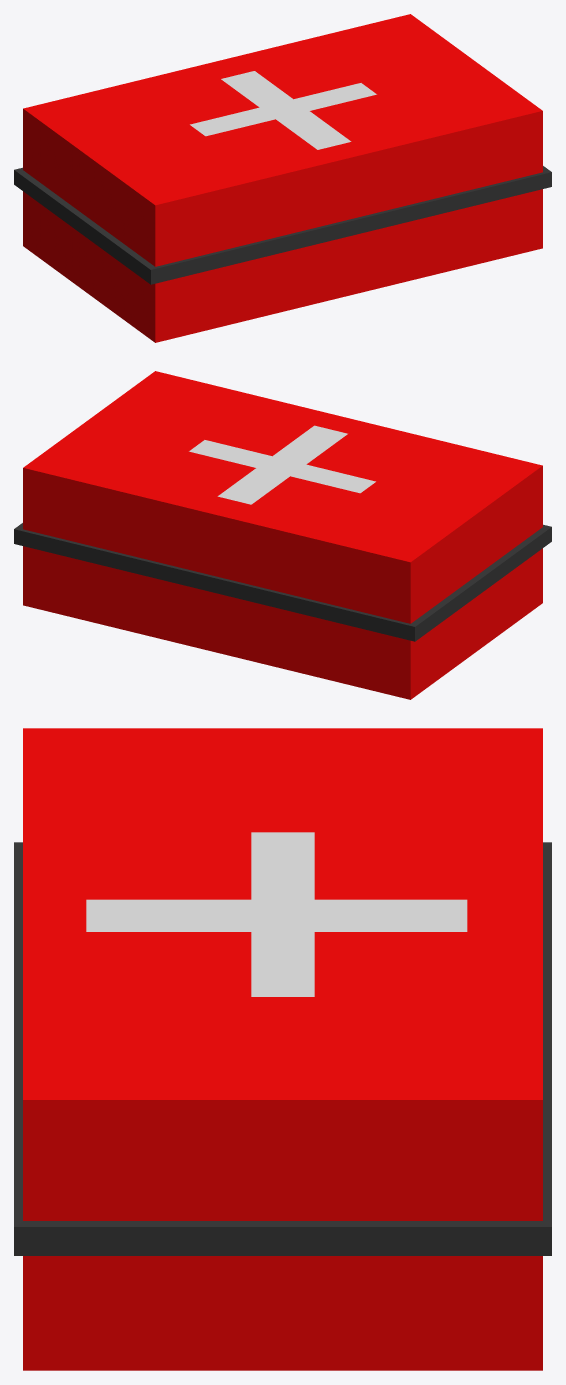
File: Medkit.fbx
3 views of the same model, one above another, from view 1: azimuth 30°, elevation 25°; view 2: azimuth 150°, elevation 25°; view 3: azimuth 270°, elevation 25° (orthographic). The views are drawn at different scales.
Visible parts, largest first — view 1: Cube.016; view 2: Cube.016; view 3: Cube.016.
Part boxes in pixels (x1,y1,x2,y2): Cube.016: [14, 14, 551, 342]; Cube.016: [14, 371, 551, 699]; Cube.016: [14, 728, 551, 1370].
Size of the model in its own units: 350 by 115 by 207.
